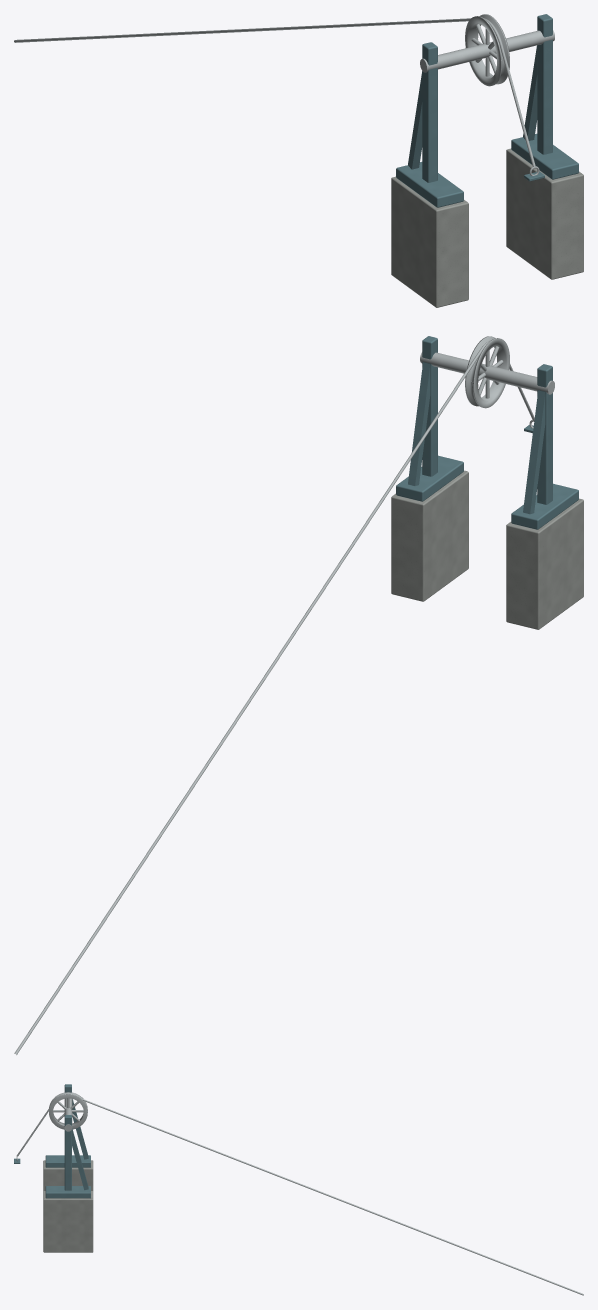
File: gorgehold-survivor-gallery-and-operations-cable-haul-i-fe0368ae__32900.glb
The picture shows the model from 3 angles, top to bottom: view 1: azimuth 30°, elevation 25°; view 2: azimuth 150°, elevation 25°; view 3: azimuth 270°, elevation 25°; orthographic projection. The views are drawn at different scales.
Parts seen in each view (by area): view 1: cable-haul-installed-route-configuration; view 2: cable-haul-installed-route-configuration; view 3: cable-haul-installed-route-configuration.
Part boxes in pixels (x1=…): cable-haul-installed-route-configuration: x1=14, y1=14, x2=583, y2=307; cable-haul-installed-route-configuration: x1=14, y1=336, x2=583, y2=1054; cable-haul-installed-route-configuration: x1=14, y1=1084, x2=583, y2=1295.
Size of the model in its own units: 2.06 by 4.92 by 12.58.
Materials: 3 (3 with a texture image).
